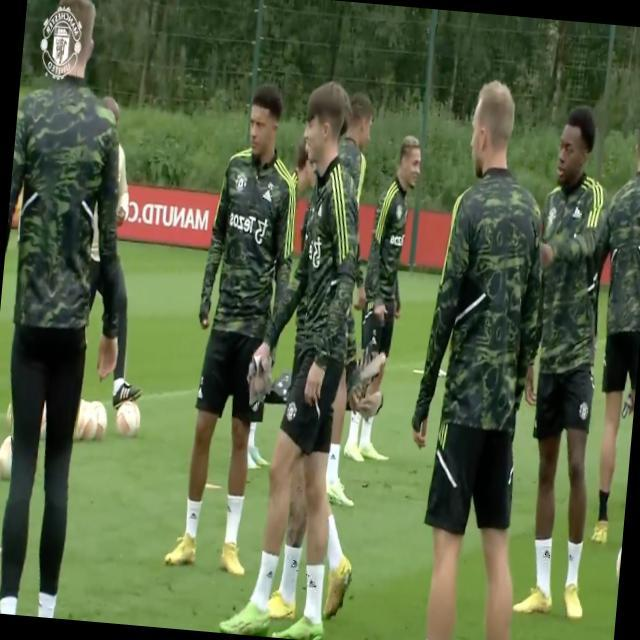Adidas: (305, 574, 318, 594), (261, 186, 272, 205), (540, 546, 552, 563), (571, 204, 582, 221), (289, 554, 300, 571)
